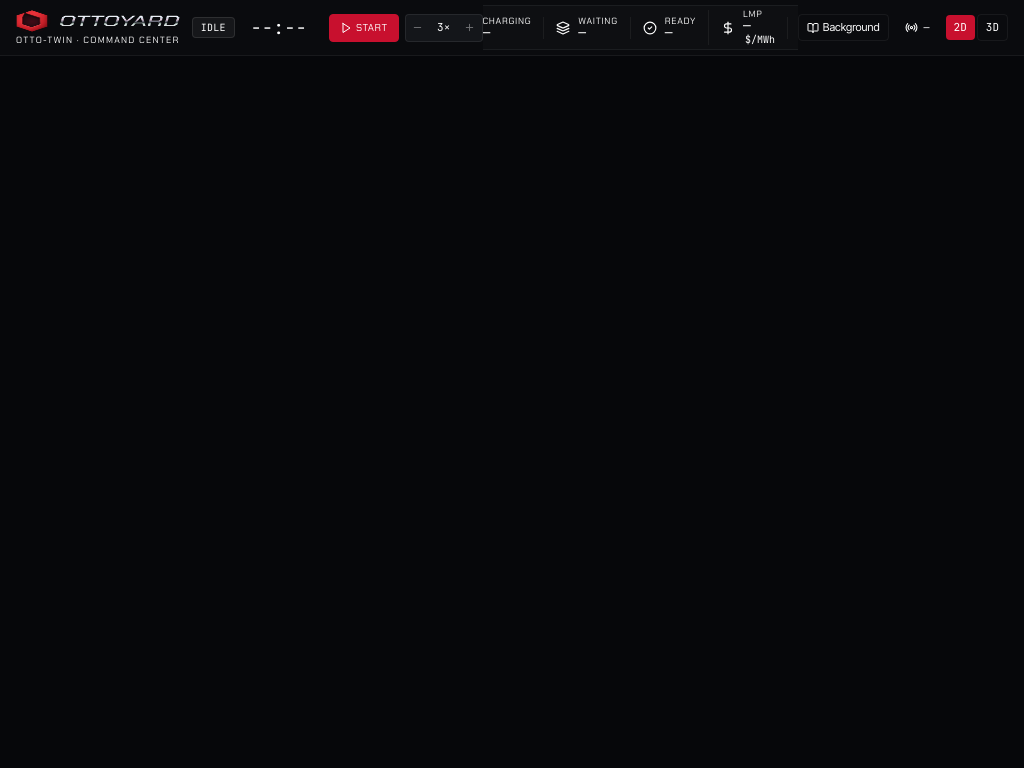
Test: TopBar: the run transport, beside the clock › Start opens the confirm and starts nothing until the confirm says so
The image size is (1024, 768).
Later steps or results of the test are not shown.
Click the button "Start". click: x=364, y=28
box: [329,14,399,42]
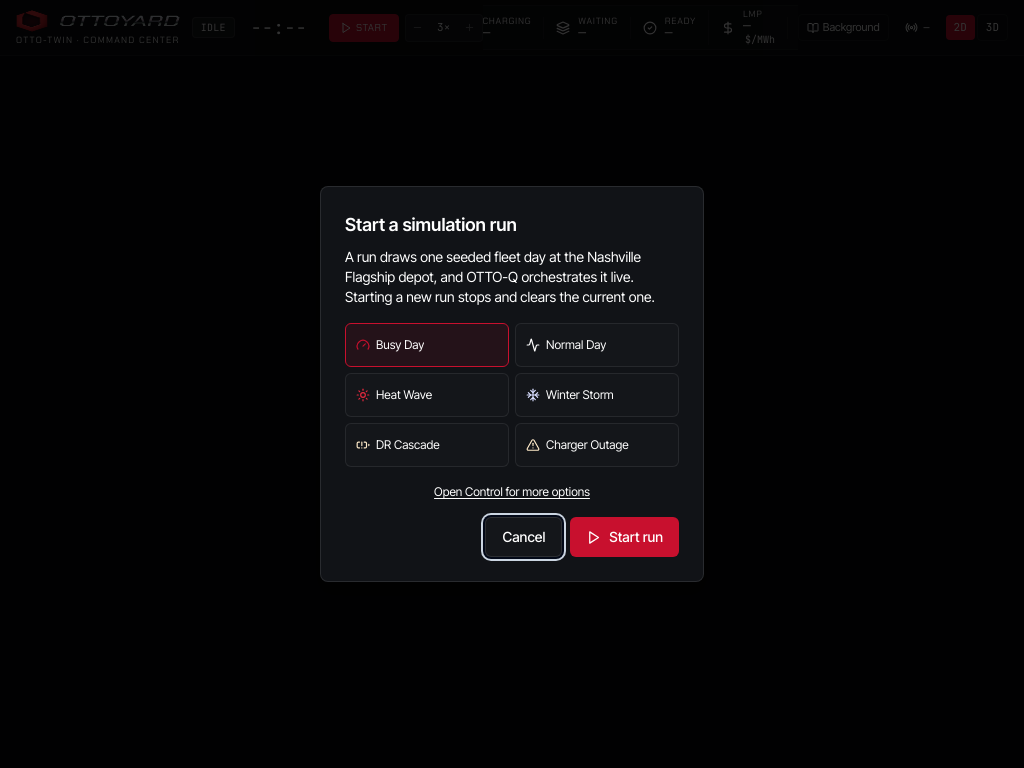
Now the heading "Start a simulation run" is shown, box [345,214,517,235]
Now the text "a new run stops and clears the current one." is shown, box [345,248,655,305]
Now the radio button labelled "Busy Day" is shown, box [345,323,509,367]
Note: Cancel: still nothing
Click the button "Cancel". click: x=524, y=537
box: [486,517,562,557]
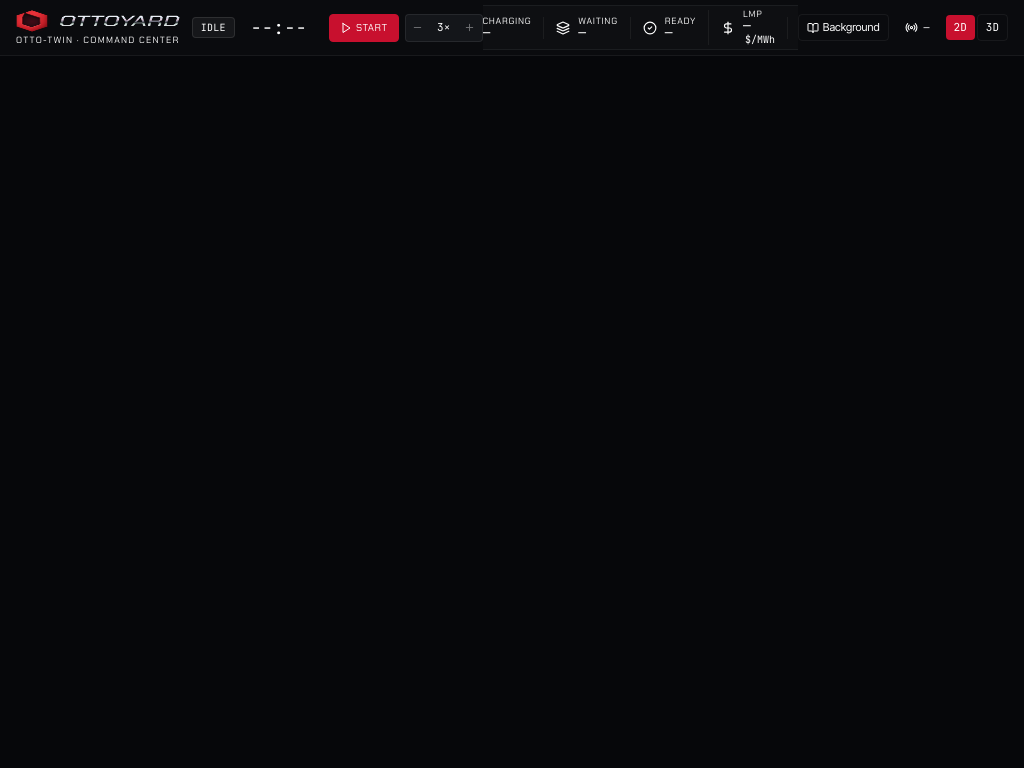
Now the dialog is gone
